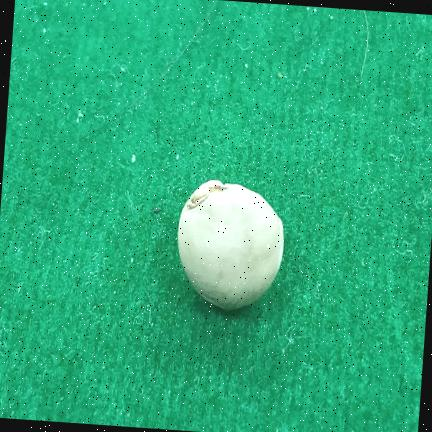good: (177, 180, 283, 310)
